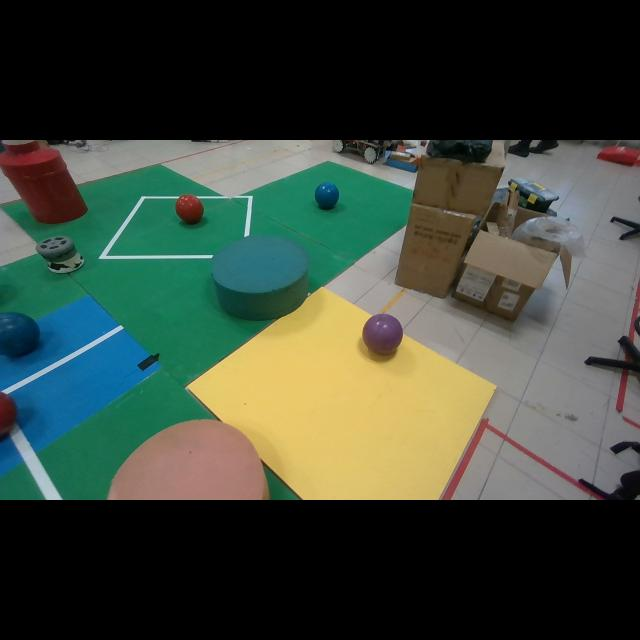B: (0, 312, 40, 356), (315, 182, 339, 209)
P: (362, 314, 402, 355)
R: (175, 195, 204, 223), (1, 391, 16, 436)
